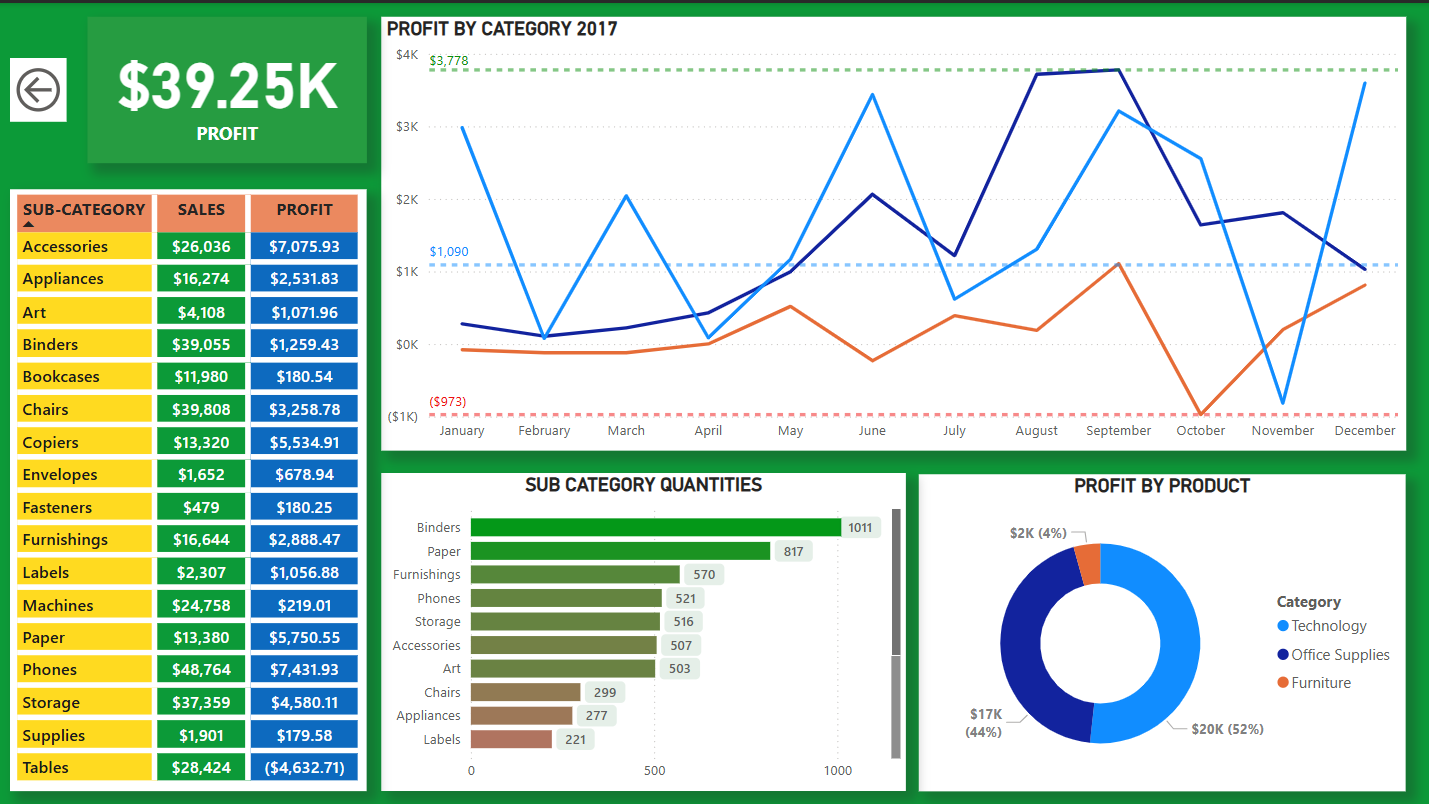

Layout of this report page (visuals, bound fields, positions):
{"tool":"powerbi","page":{"name":"PRODUCT ANALYSIS","canvas":[1280,720],"ordinal":1},"visuals":[{"type":"lineChart","title":"PROFIT BY CATEGORY 2017","fields":{"Y":["Sum(dataset.Profit)"],"Category":["dataset.Date.Variation.Date Hierarchy.Month"],"Series":["dataset.Category"]},"box":[343.8,12.5,912.5,386.2],"z":0},{"type":"donutChart","title":"PROFIT BY PRODUCT","fields":{"Category":["dataset.Category"],"Y":["Sum(dataset.Profit)"]},"box":[822.5,420,433.8,282.5],"z":1000},{"type":"clusteredBarChart","title":"SUB CATEGORY QUANTITIES","fields":{"Category":["dataset.Sub-Category"],"Y":["Sum(dataset.Quantity)"]},"box":[343.6,418.4,467.5,283.4],"z":2000},{"type":"tableEx","fields":{"Values":["dataset.Sub-Category","Sum(dataset.Sales)","Sum(dataset.Profit)"]},"box":[13.5,165.6,317.8,536.2],"z":3000},{"type":"card","fields":{"Values":["Sum(dataset.Profit)"]},"box":[82.2,12.3,249.1,130.1],"z":4000},{"type":"actionButton","box":[13.5,49.1,50.3,56.4],"z":5000}]}

Visuals, with their boxes in screenshot pixels (x1, y1, x2, y2), scaled from the page's 1280x720 canvas onto the 1429x804 screenshot:
"PROFIT BY CATEGORY 2017" lineChart: (left=384, top=14, right=1403, bottom=445)
"PROFIT BY PRODUCT" donutChart: (left=918, top=469, right=1403, bottom=784)
"SUB CATEGORY QUANTITIES" clusteredBarChart: (left=384, top=467, right=906, bottom=784)
tableEx - dataset.Sub-Category x Sum(dataset.Sales): (left=15, top=185, right=370, bottom=784)
card - Sum(dataset.Profit): (left=92, top=14, right=370, bottom=159)
actionButton: (left=15, top=55, right=71, bottom=118)
